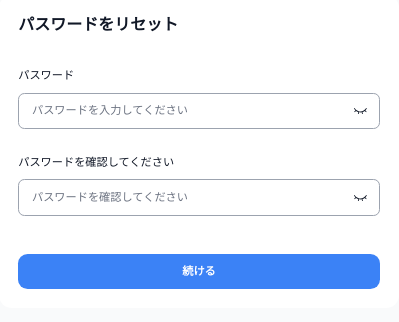
Test case: ResetPasswordForm › 確認用パスワードが一致しない状態で送信するとエラーメッセージが表示され、resetPasswordActionは呼ばれない
This screenshot has width=399, height=322.
Step 1. Type "validPassword1" into the password field labelled "パスワード" → (199, 111), box [18,93,380,129]
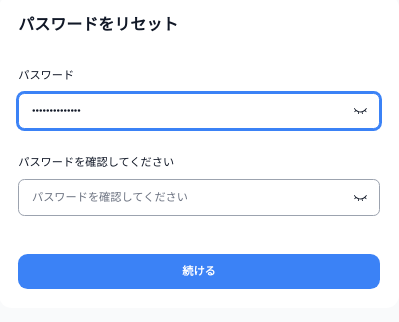
Step 2. Type "validPassword2" into the password field labelled "パスワードを確認してください" → (199, 197), box [18,179,380,216]
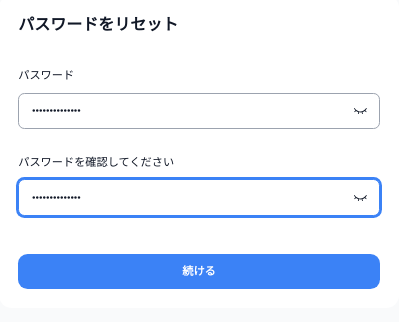
Step 3. Click the button "続ける" → (199, 272), box [18,254,380,289]
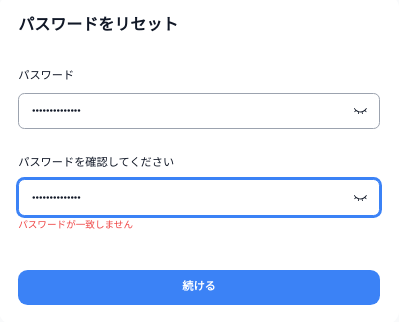
Expected: the text "パスワードが一致しません" is shown, [18,218,133,231]
